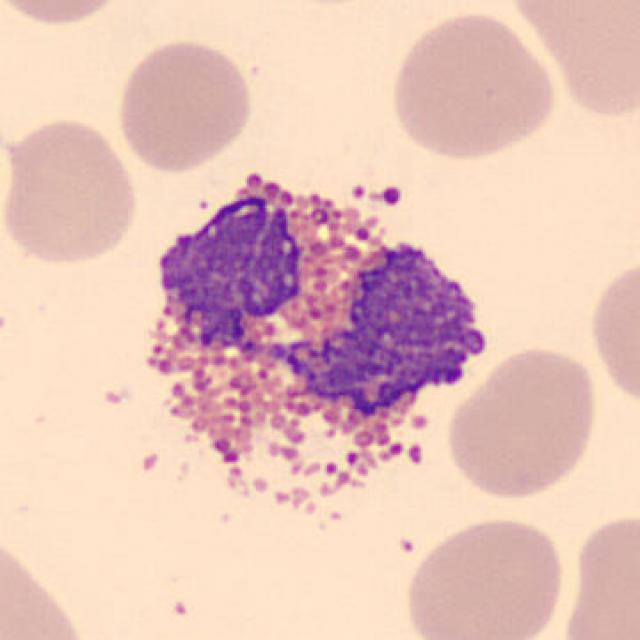Eosinophil: (116, 153, 507, 522)
RBC: (384, 7, 558, 164), (441, 340, 603, 502), (0, 113, 142, 270), (400, 511, 571, 640), (112, 35, 256, 175), (501, 0, 640, 122), (0, 523, 98, 640), (558, 508, 640, 640), (585, 250, 640, 416), (0, 0, 133, 30)
